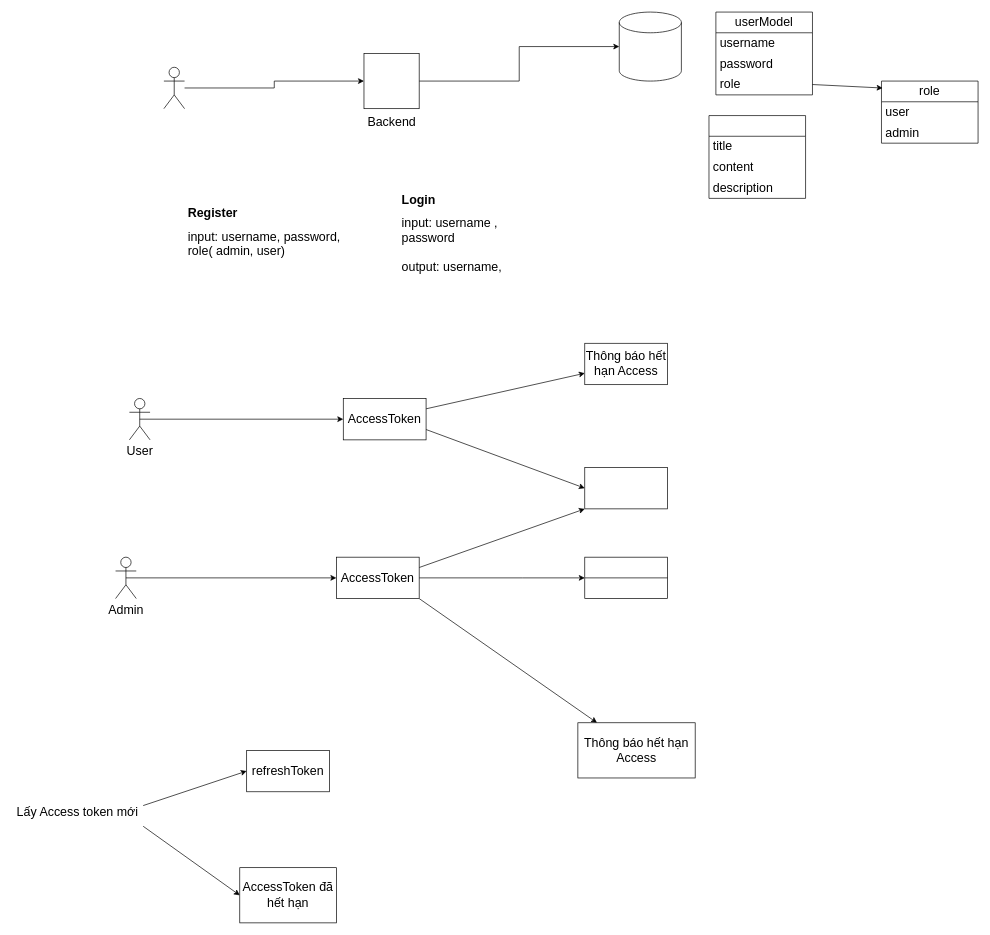
This 990x935 diagram has some shape labels left out. The shapes that lost their labels are listed below. From the top down, each one's box as (x1, y1, x2, y2) in pixels, then its label:
(619, 11, 681, 81): mongoDB
(163, 67, 185, 109): Actor
(708, 115, 806, 198): post
(584, 467, 668, 509): home
(584, 556, 668, 599): List Form
